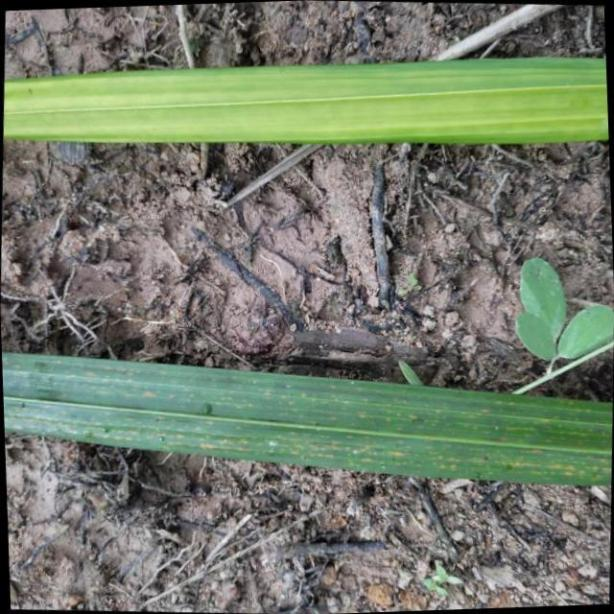nitrogen: (0, 350, 614, 481), (6, 59, 614, 147)
